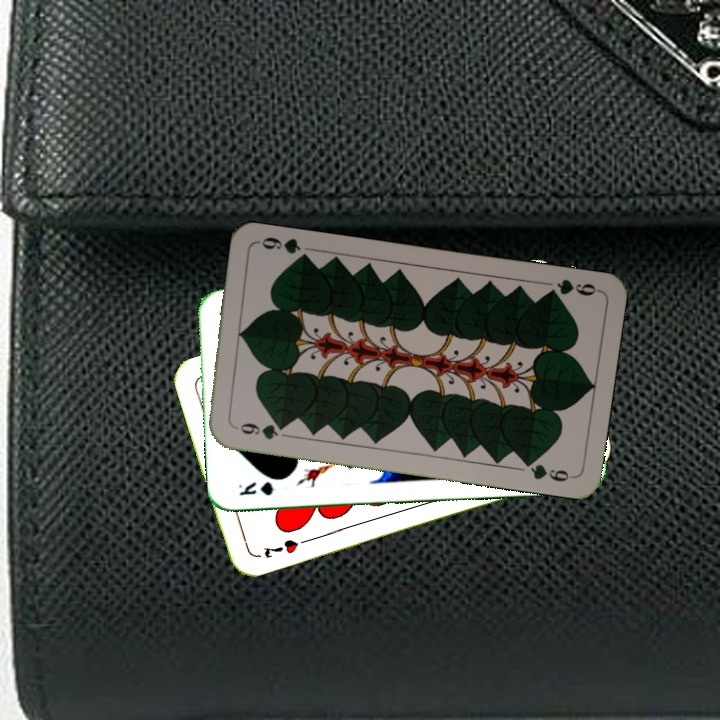G9: (541, 275, 601, 300), (229, 418, 289, 442)
GK: (234, 477, 276, 498)
H7: (260, 535, 301, 561)
